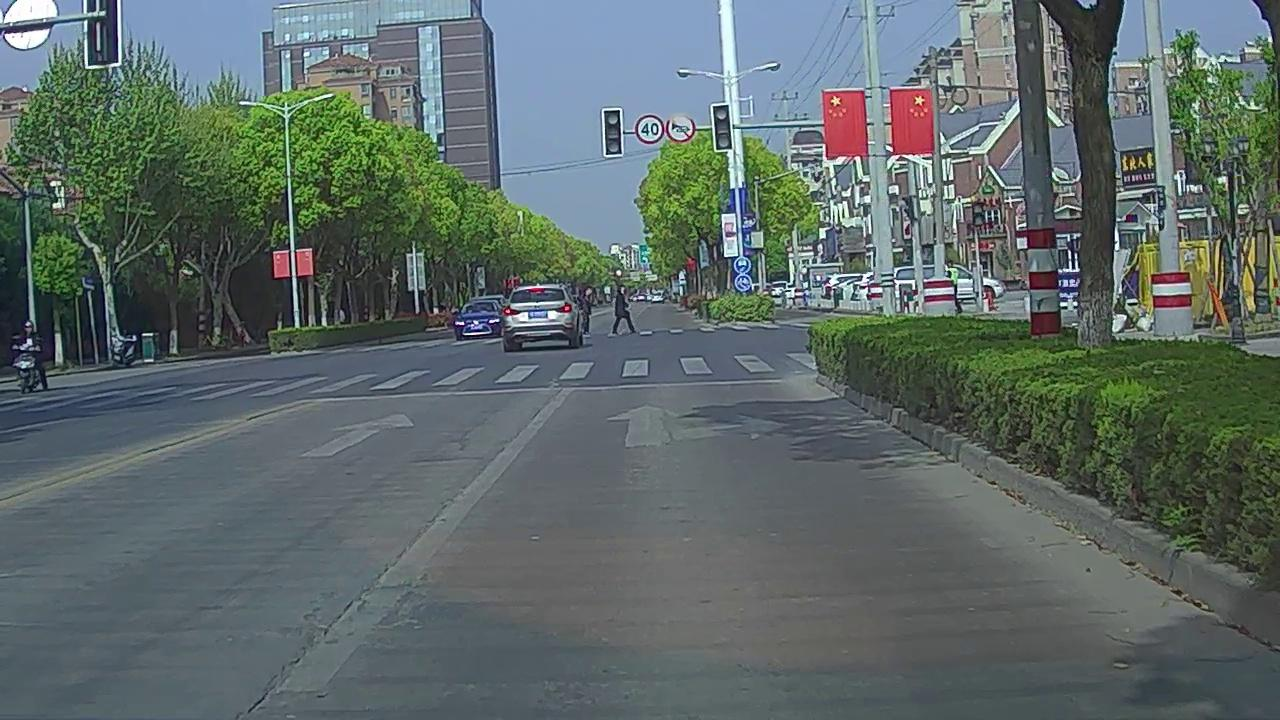traffic_light: (713, 103, 732, 152), (603, 108, 622, 155)
